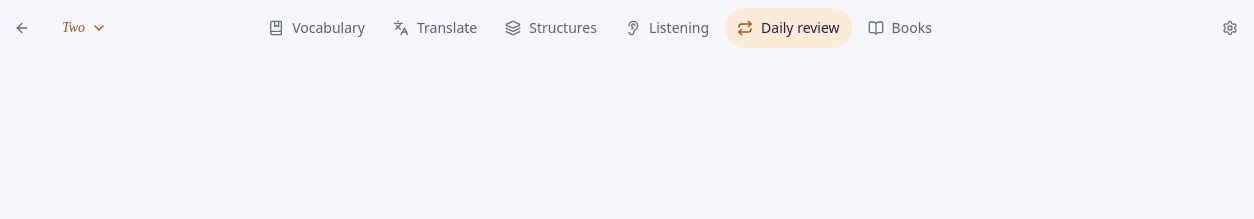
TopBar › a click outside puts the picker away
The width and height of the screenshot is (1254, 219).
What coordinates should you click on to do the following:
click the button with aria-label "Current chapter: Two"
I would click on:
 (85, 28)
Its box is [50,8,119,48].
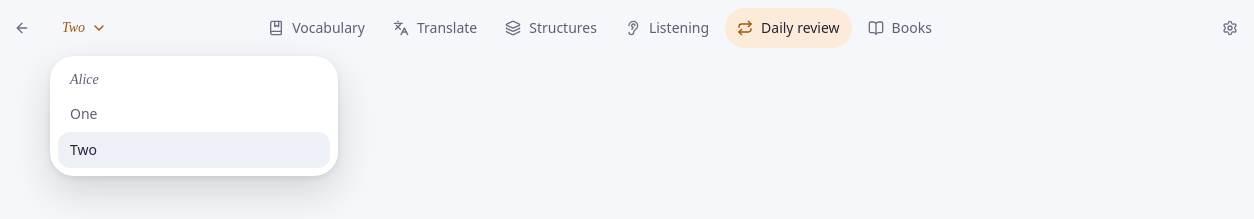
What coordinates should you click on to do the following:
click the button "Books"
I would click on:
 (900, 28)
Its box is [856,8,944,48].
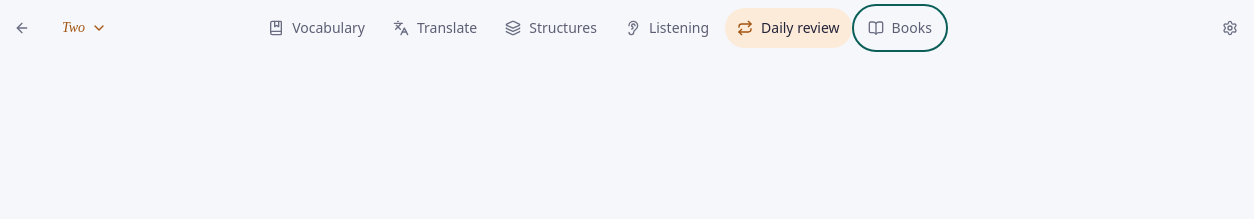
Result: the list is gone
